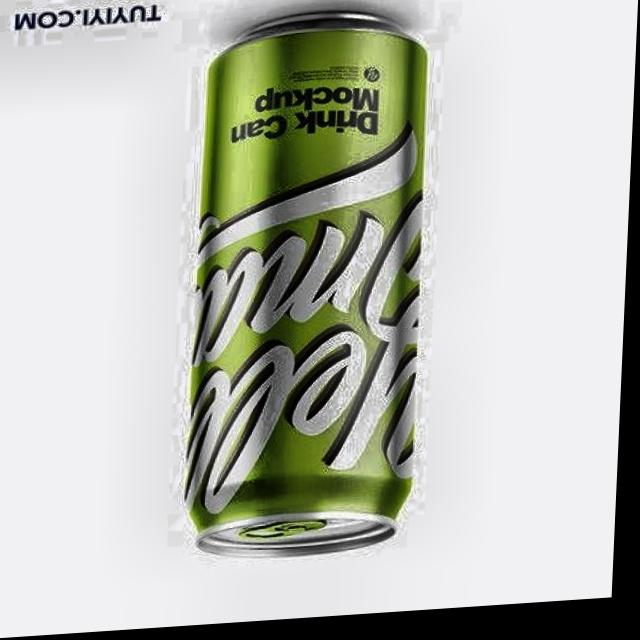can: (178, 7, 442, 577)
